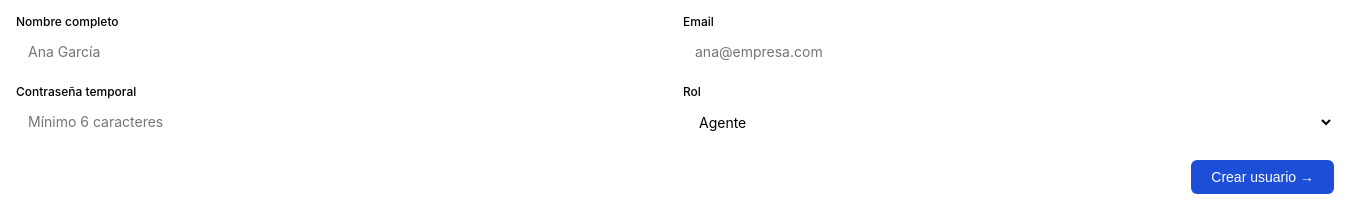
Test: AddUserForm › deshabilita el botón mientras carga
This screenshot has width=1351, height=211.
Type "Ana" into the field labelled "Nombre completo". click: (342, 52)
box: top-left (16, 35), bottom-right (667, 68)
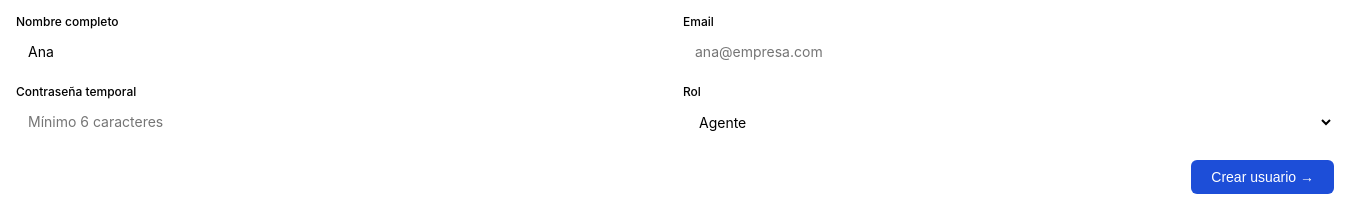
Type "ana@test.com" into the field labelled "Email". click: (1008, 52)
box: top-left (683, 35), bottom-right (1334, 68)
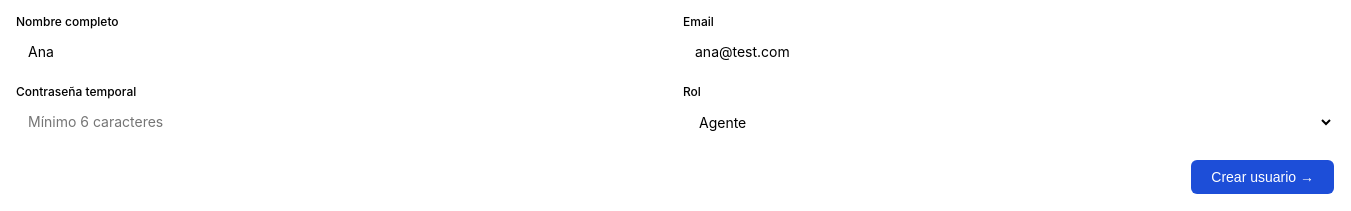
Type "clave123" into the password field labelled "Contraseña temporal". click: (342, 122)
box: top-left (16, 105), bottom-right (667, 138)
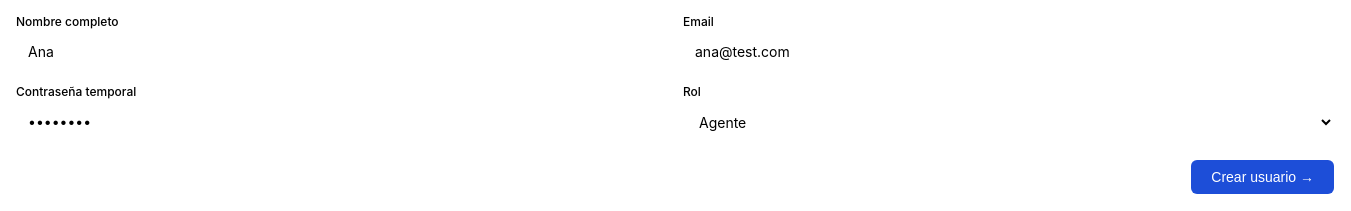
Click the button "Crear usuario →". click: (1263, 177)
box: top-left (1191, 160), bottom-right (1334, 194)
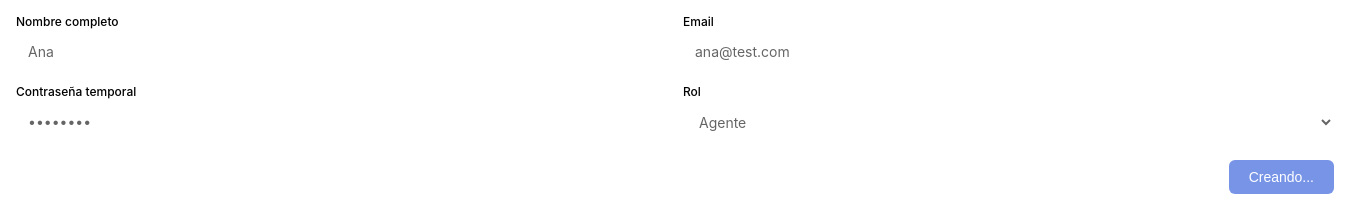
Expected: the button "Creando..." is disabled, top-left (1229, 160), bottom-right (1334, 194)
